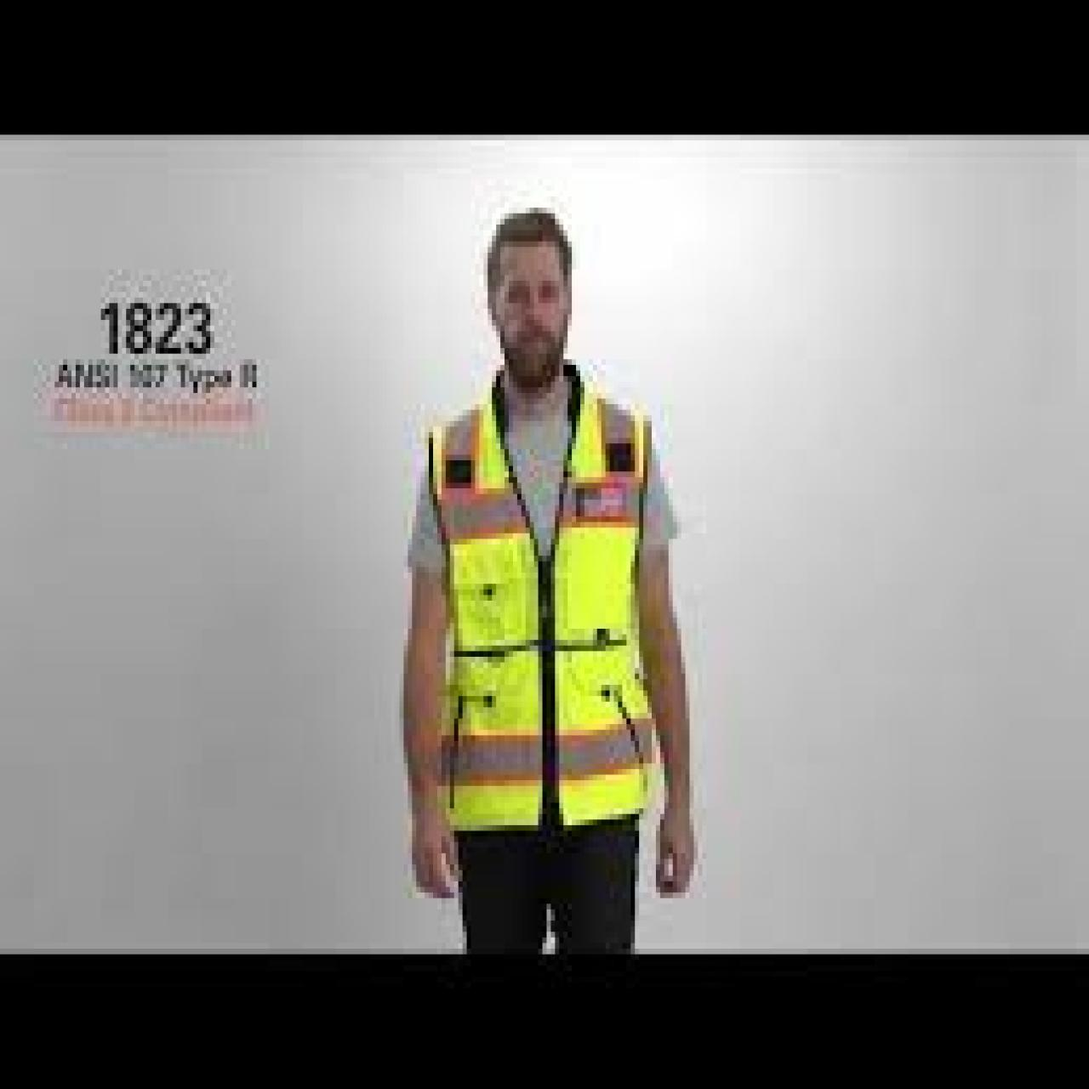Person: (386, 195, 721, 956)
Safety_Vest: (409, 356, 673, 841)
